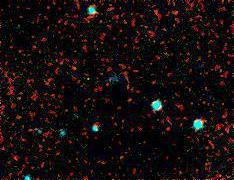star: (73, 60, 103, 90)
